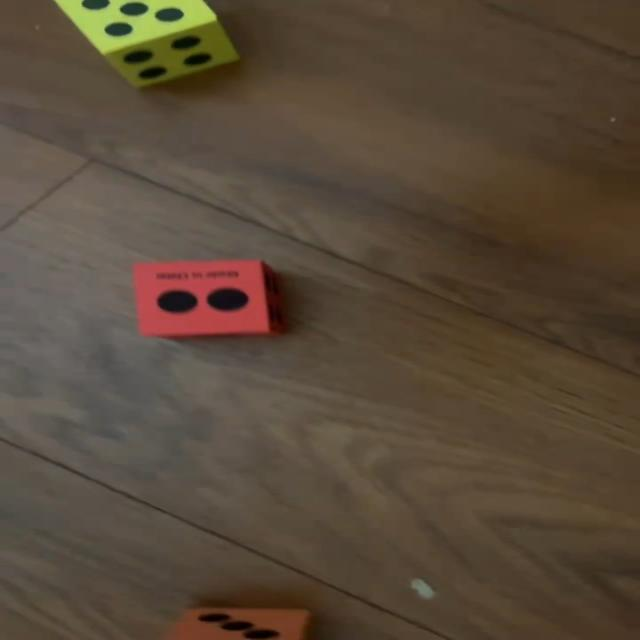red_block: (136, 260, 274, 342)
